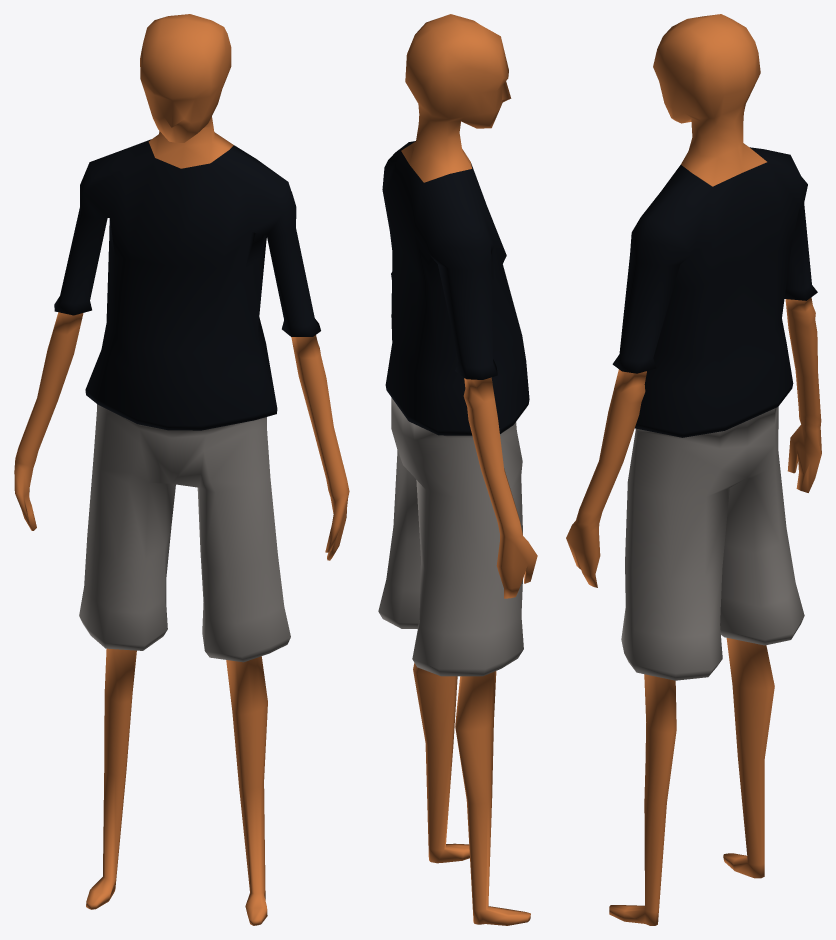
The model's file is personagem.obj.
The picture shows the model from 3 angles, left to right: view 1: azimuth 30°, elevation 25°; view 2: azimuth 150°, elevation 25°; view 3: azimuth 270°, elevation 25°; orthographic projection.
Parts seen in each view (by area): view 1: personagem; view 2: personagem; view 3: personagem.
Part boxes in pixels (x1,y1,x2,y2): personagem: [14, 14, 349, 925]; personagem: [378, 14, 537, 925]; personagem: [566, 14, 821, 925].
Size of the model in its own units: 0.4449 by 1.61 by 0.4233.
